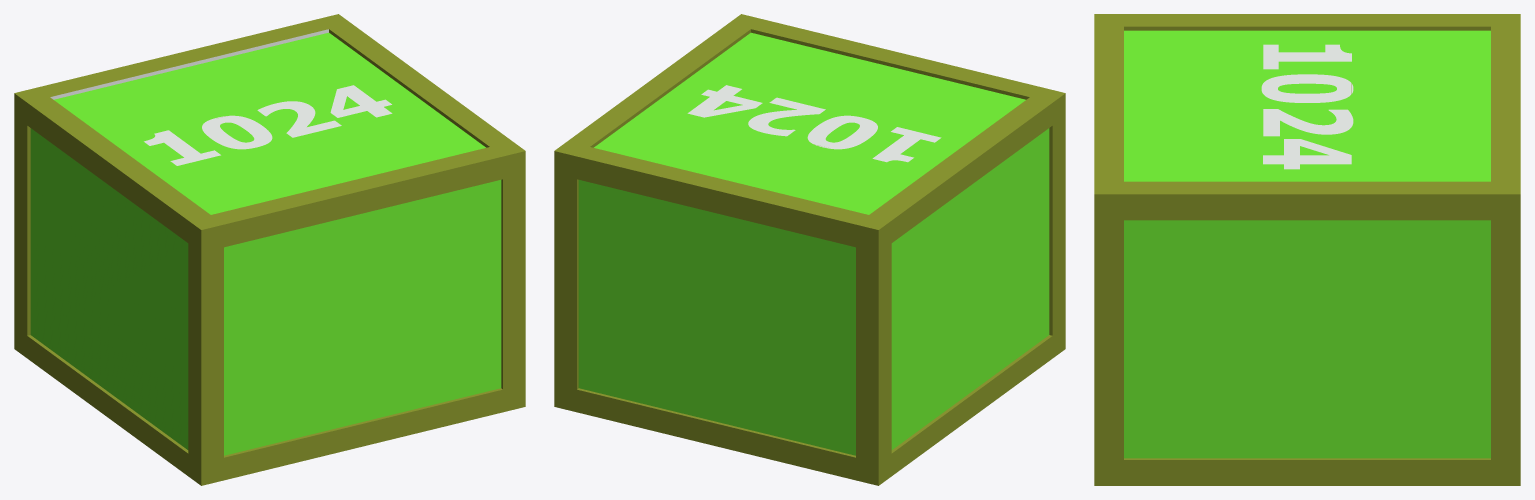
Rendered from 1024Prefab.fbx.
3 views of the same model, side by side, from view 1: azimuth 30°, elevation 25°; view 2: azimuth 150°, elevation 25°; view 3: azimuth 270°, elevation 25° (orthographic). The views are drawn at different scales.
Parts seen in each view (by area): view 1: Text.007; view 2: Text.007; view 3: Text.007.
Boxes of the visible parts, bbox=[...] form: Text.007: bbox=[14, 14, 525, 485]; Text.007: bbox=[554, 14, 1065, 485]; Text.007: bbox=[1094, 14, 1520, 485].
Size of the model in its own units: 194 by 146 by 194.
